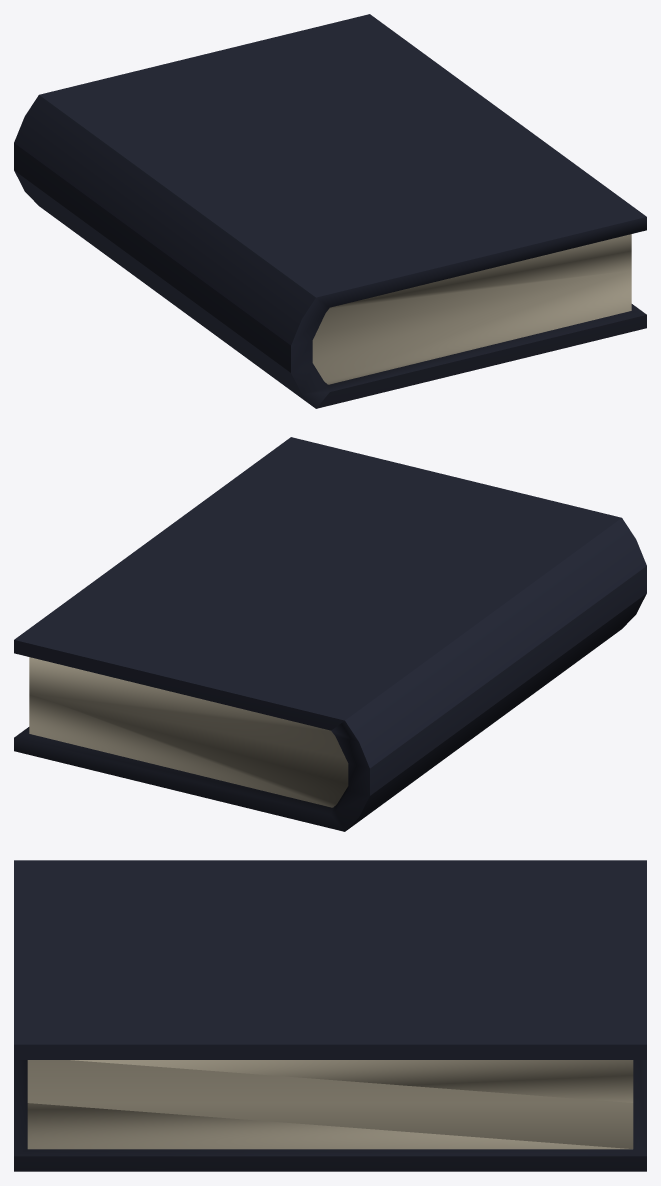
The model's file is pq_livre_5.glb.
3 renders of one model, top to bottom at view 1: azimuth 30°, elevation 25°; view 2: azimuth 150°, elevation 25°; view 3: azimuth 270°, elevation 25°, orthographic. The views are drawn at different scales.
Visible parts, largest first — view 1: Book_5; view 2: Book_5; view 3: Book_5.
Part boxes in pixels (x1,y1,x2,y2): Book_5: (14,14,646,408); Book_5: (14,437,646,831); Book_5: (14,860,646,1171).
Bounding box in the file's own units: 0.1874 × 0.056 × 0.2527.
